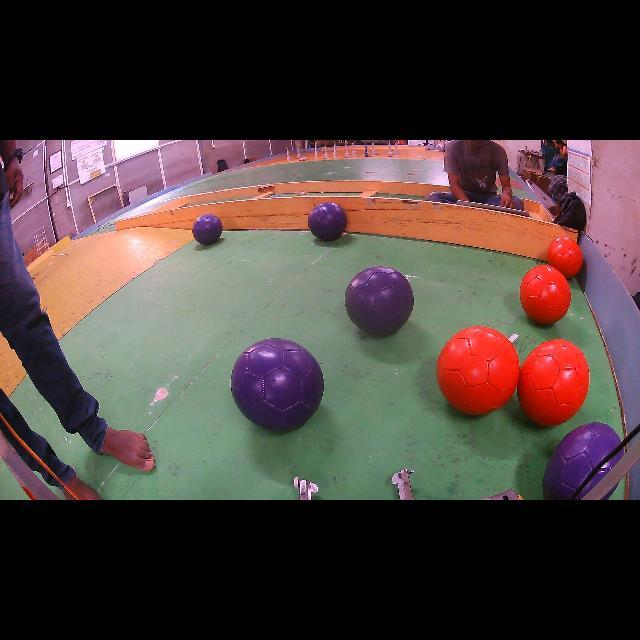P: (231, 339, 324, 431), (542, 422, 621, 500), (345, 266, 414, 335), (576, 451, 624, 500), (308, 202, 348, 241), (192, 214, 222, 245)
R: (436, 326, 520, 415), (518, 340, 590, 426), (520, 265, 571, 324), (548, 236, 582, 279)
